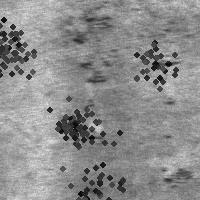rolled-in_scale: (39, 128, 151, 200), (72, 10, 115, 141), (0, 1, 50, 97), (119, 27, 187, 95), (44, 96, 104, 156), (160, 161, 195, 189)
